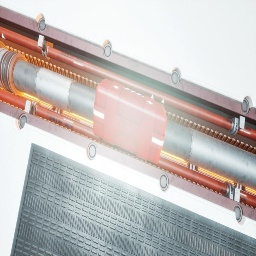FirstAidBox ,: (93, 78, 167, 164)
